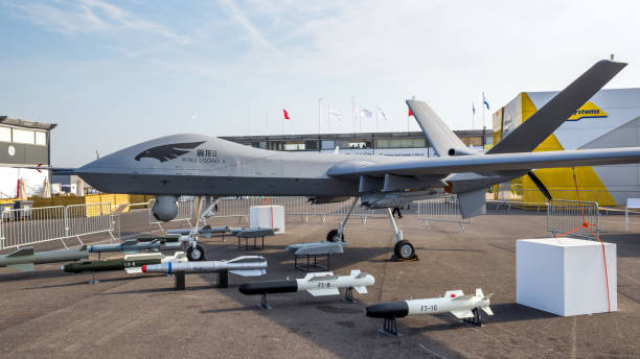military drone: (12, 54, 640, 259)
